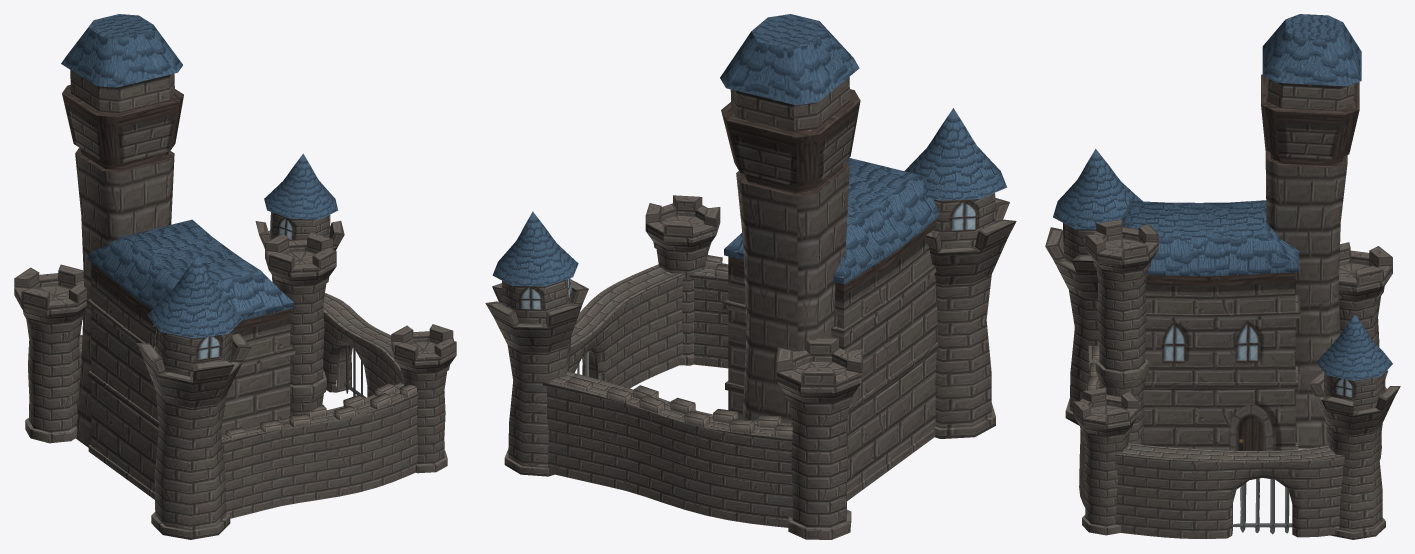
The model's file is kasteel_model.fbx.
3 views of the same model, side by side, from view 1: azimuth 30°, elevation 25°; view 2: azimuth 150°, elevation 25°; view 3: azimuth 270°, elevation 25° (orthographic). The views are drawn at different scales.
Visible parts, largest first — view 1: pCube48, pCube51, polySurface109, polySurface57, polySurface62, polySurface108, polySurface107, polySurface105, polySurface104; view 2: pCube51, pCube48, polySurface106, polySurface109, polySurface104, polySurface62, polySurface105, polySurface107, polySurface57; view 3: pCube48, pCube51, polySurface105, polySurface104, polySurface108, polySurface109, polySurface107, polySurface62, pPlane2, polySurface57.
Part boxes in pixels (<box>): pCube48: <box>86,219,295,499</box>; pCube51: <box>61,14,183,447</box>; polySurface109: <box>136,255,251,539</box>; polySurface57: <box>221,382,418,518</box>; polySurface62: <box>14,264,86,443</box>; polySurface108: <box>265,232,336,415</box>; polySurface107: <box>391,324,456,473</box>; polySurface105: <box>323,293,403,397</box>; polySurface104: <box>255,153,344,285</box>; pCube51: <box>720,14,860,423</box>; pCube48: <box>722,158,938,500</box>; polySurface106: <box>542,371,792,527</box>; polySurface109: <box>904,108,1016,438</box>; polySurface104: <box>485,211,588,476</box>; polySurface62: <box>776,337,862,539</box>; polySurface105: <box>569,264,684,388</box>; polySurface107: <box>645,195,720,365</box>; polySurface57: <box>689,263,728,368</box>; pCube48: <box>1098,200,1300,450</box>; pCube51: <box>1261,14,1361,448</box>; polySurface105: <box>1114,443,1344,538</box>; polySurface104: <box>1309,314,1400,539</box>; polySurface108: <box>1085,219,1158,444</box>; polySurface109: <box>1045,149,1142,425</box>; polySurface107: <box>1072,387,1139,535</box>; polySurface62: <box>1338,242,1392,346</box>; pPlane2: <box>1232,478,1292,534</box>; polySurface57: <box>1079,345,1100,507</box>.
Size of the model in its own units: 13.44 by 16.48 by 12.94.
